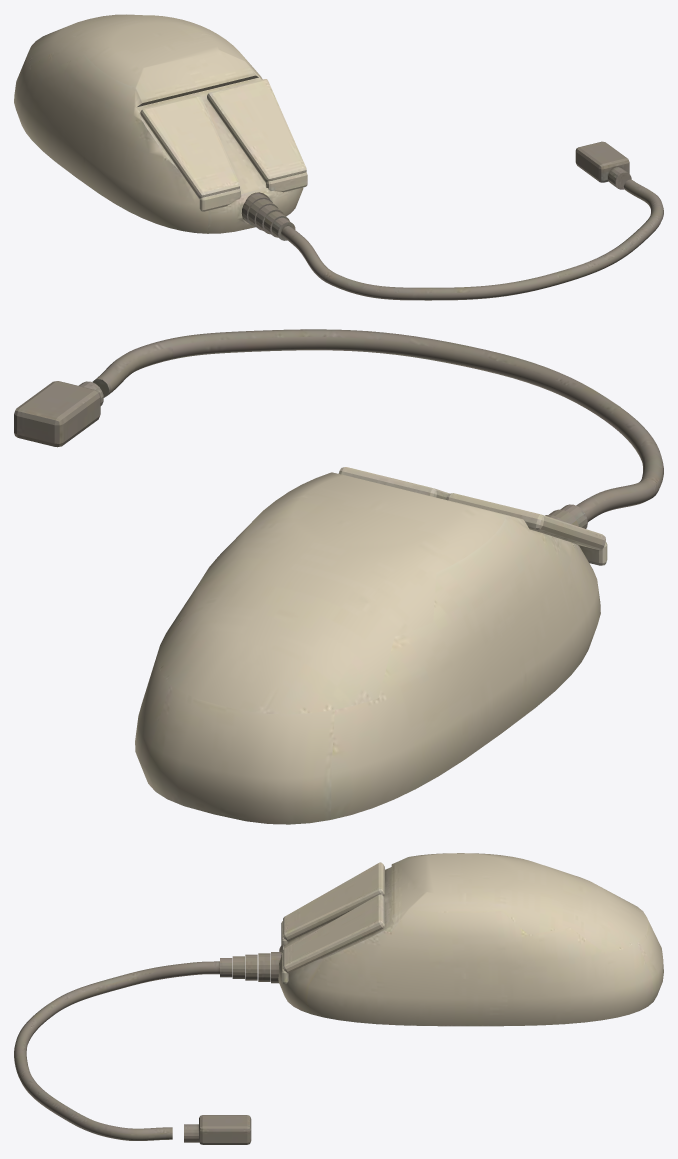
Rendered from mouse-b.glb.
3 views of the same model, one above another, from view 1: azimuth 30°, elevation 25°; view 2: azimuth 150°, elevation 25°; view 3: azimuth 270°, elevation 25° (orthographic). The views are drawn at different scales.
Parts seen in each view (by area): view 1: so-baked; view 2: so-baked; view 3: so-baked.
Boxes of the visible parts, <box> form: so-baked: <box>14,14,663,300</box>; so-baked: <box>14,329,663,824</box>; so-baked: <box>14,853,663,1144</box>.
Size of the model in its own units: 0.1452 by 0.0389 by 0.1984.
Materials: 1 (1 with a texture image).
